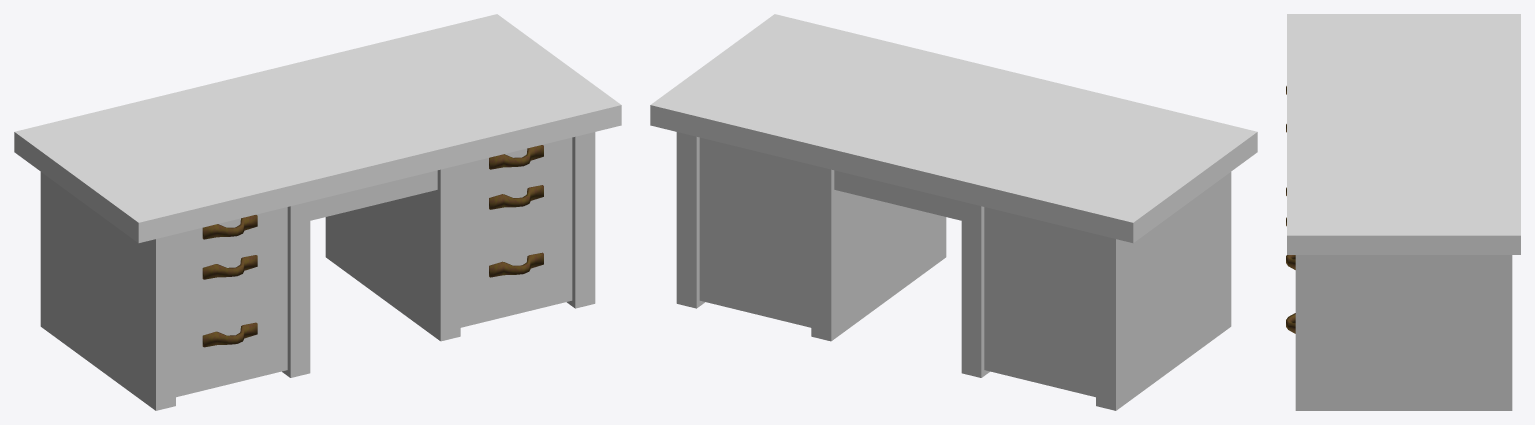
Rendered from desk.fbx.
3 renders of one model, left to right at view 1: azimuth 30°, elevation 25°; view 2: azimuth 150°, elevation 25°; view 3: azimuth 270°, elevation 25°, orthographic. The views are drawn at different scales.
Visible parts, largest first — view 1: 立方体.005, 立方体, 立方体.009, 立方体.010, 立方体.008; view 2: 立方体.005, 立方体; view 3: 立方体, 立方体.005.
Part boxes in pixels (x1,y1,x2,y2): 立方体.005: (40, 132, 595, 410); 立方体: (14, 14, 621, 242); 立方体.009: (202, 185, 543, 279); 立方体.010: (202, 252, 543, 347); 立方体.008: (202, 145, 543, 239); 立方体.005: (676, 132, 1231, 410); 立方体: (650, 14, 1257, 242); 立方体: (1287, 14, 1520, 254); 立方体.005: (1295, 255, 1512, 410).
Bounding box in the file's own units: 1033 × 402 × 462.
Materials: 3 (1 with a texture image).
